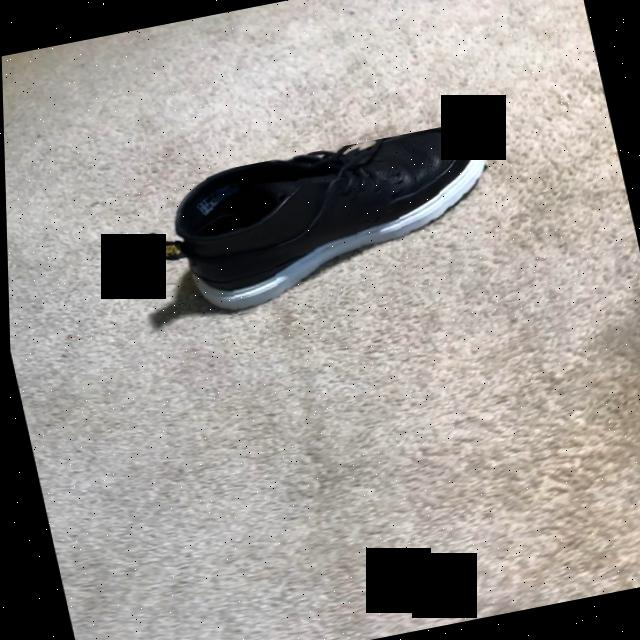shoe: (151, 126, 487, 316)
